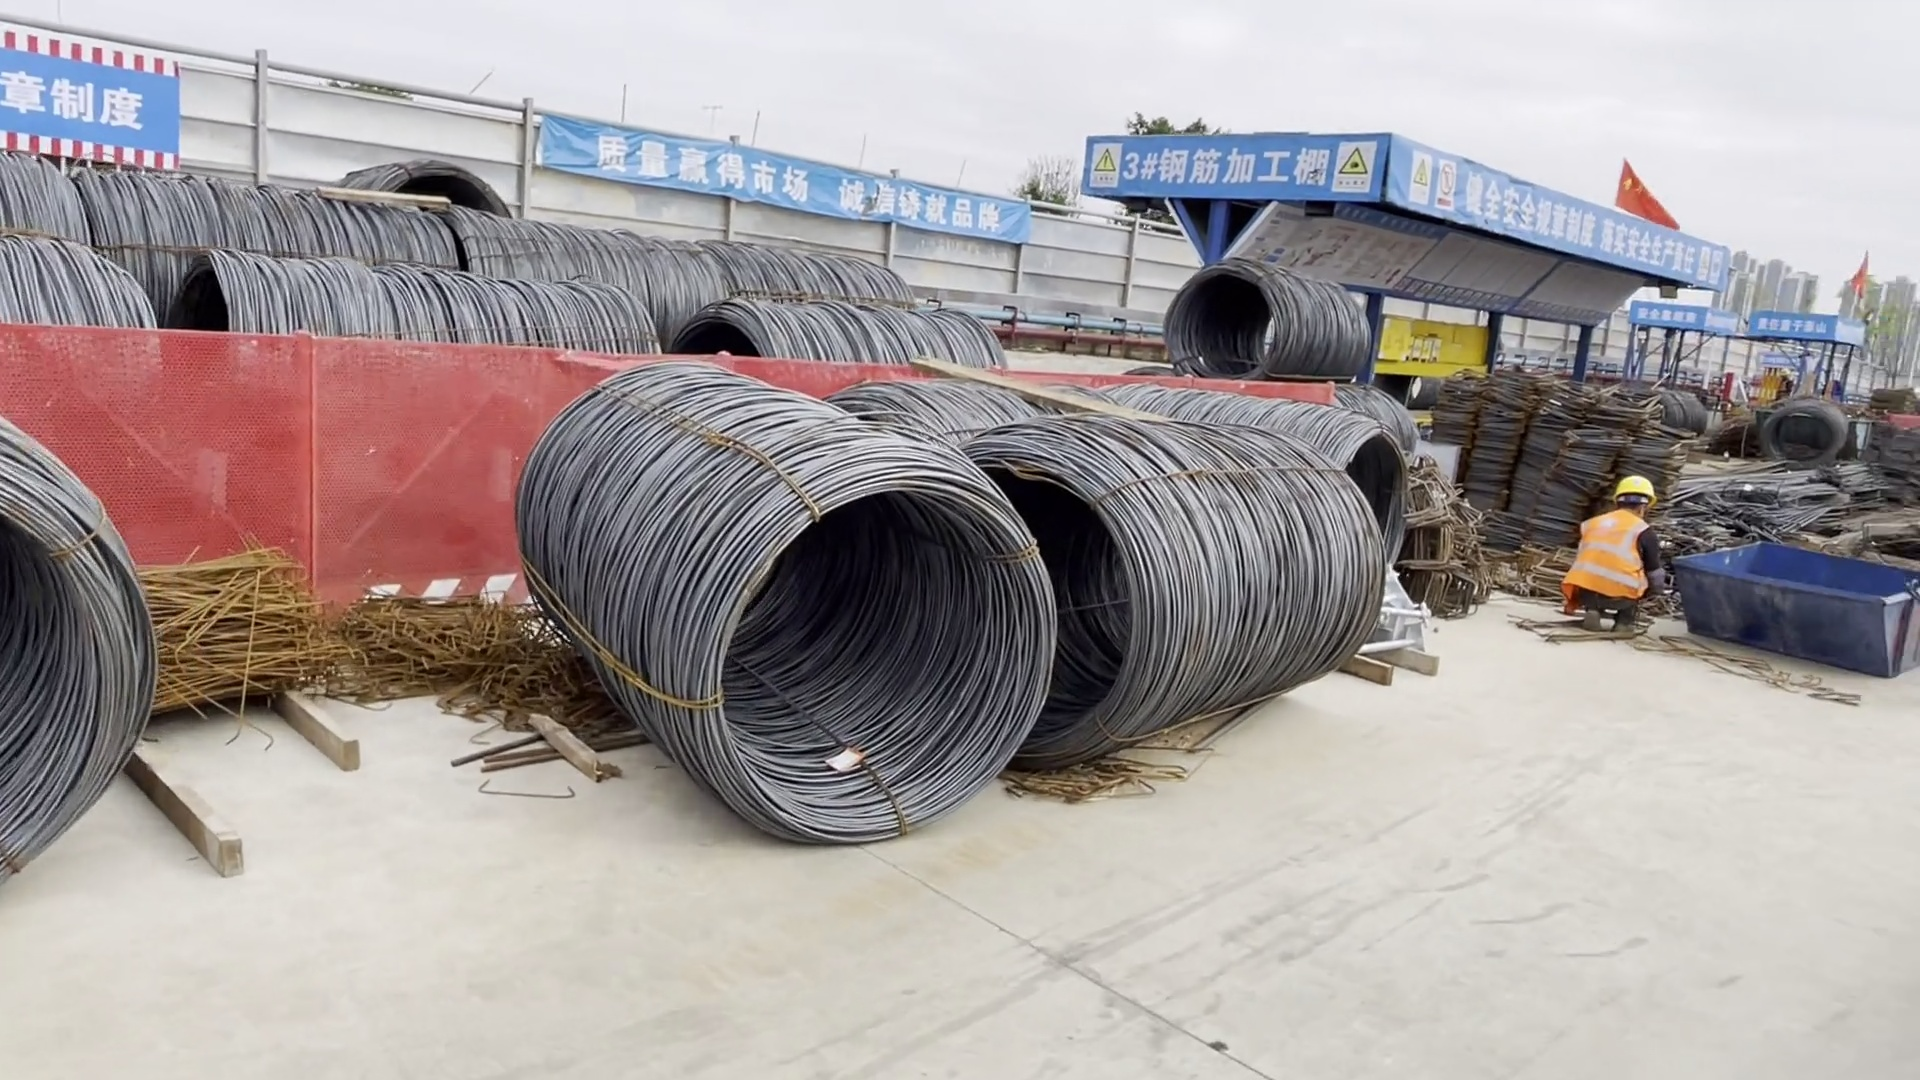fence: (1, 47, 1063, 352)
helmet: (1595, 465, 1658, 505)
hopper: (1669, 541, 1920, 665)
person: (1560, 466, 1661, 646)
slogan: (565, 116, 1022, 239), (1400, 156, 1732, 279), (1096, 140, 1366, 199), (1, 71, 179, 140), (1628, 297, 1701, 329), (1750, 313, 1833, 337)
vest: (1565, 513, 1663, 607)
